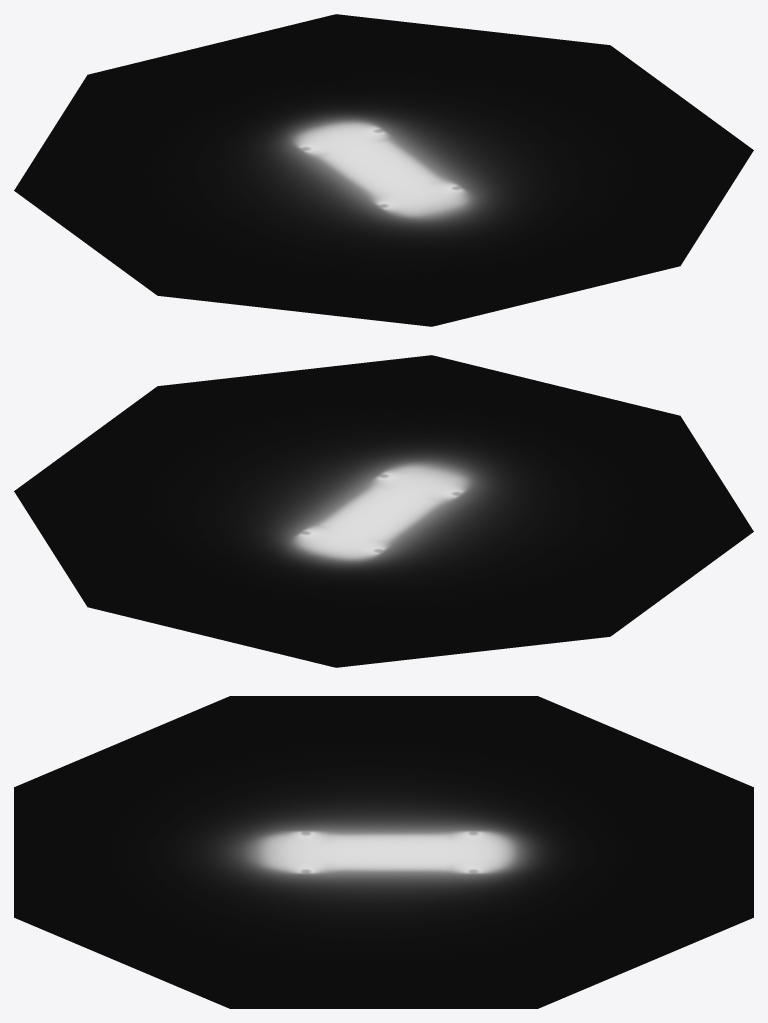
The model's file is Shadow.FBX.
3 views of the same model, one above another, from view 1: azimuth 30°, elevation 25°; view 2: azimuth 150°, elevation 25°; view 3: azimuth 270°, elevation 25° (orthographic). The views are drawn at different scales.
Parts seen in each view (by area): view 1: GBX_Shadow; view 2: GBX_Shadow; view 3: GBX_Shadow.
Part boxes in pixels (x1,y1,x2,y2): GBX_Shadow: [14, 14, 753, 326]; GBX_Shadow: [14, 355, 753, 667]; GBX_Shadow: [14, 696, 753, 1008].
Bounding box in the file's own units: 135 × 1.18e-05 × 135.
